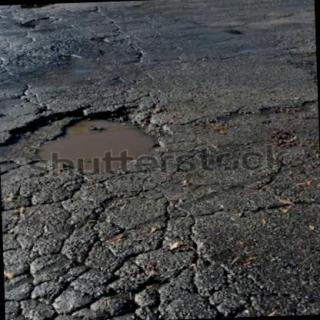pothole: (0, 106, 156, 172)
